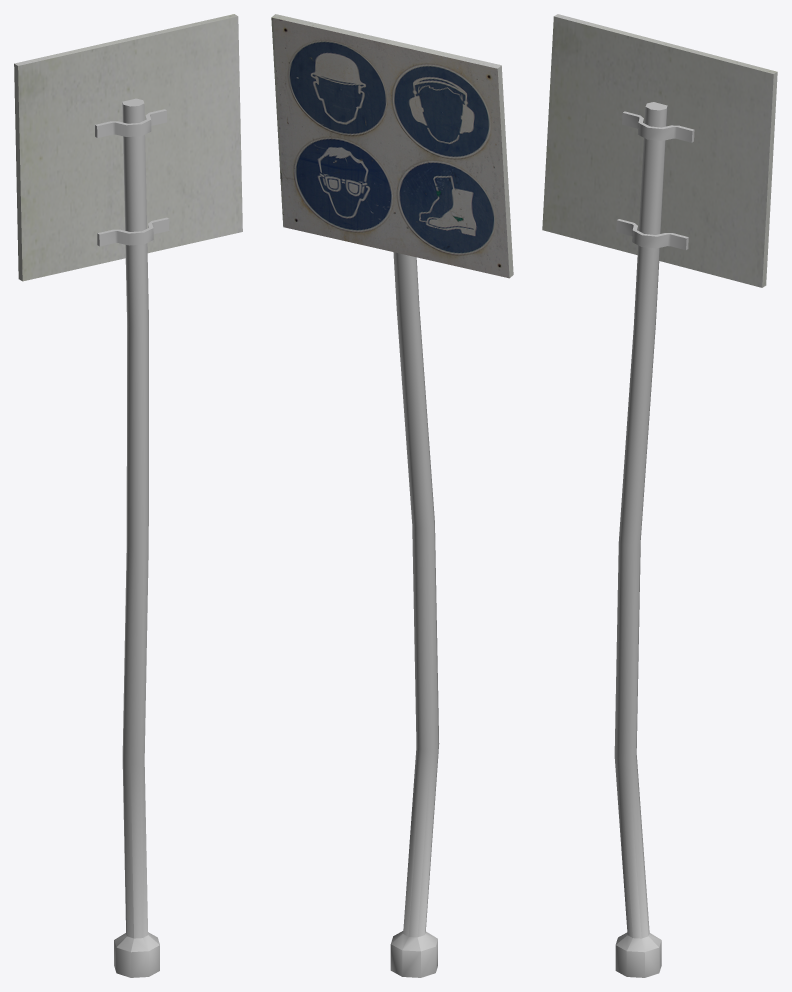
File: sign01_LOD0.fbx
3 views of the same model, side by side, from view 1: azimuth 30°, elevation 25°; view 2: azimuth 150°, elevation 25°; view 3: azimuth 330°, elevation 25° (orthographic). The views are drawn at different scales.
Visible parts, largest first — view 1: Mesh Object; view 2: Mesh Object; view 3: Mesh Object.
Boxes of the visible parts, box(x1,y1,x2,y2) form: Mesh Object: box(14, 14, 242, 977); Mesh Object: box(271, 14, 513, 977); Mesh Object: box(542, 14, 777, 977).
Bounding box in the file's own units: 0.5447 × 2.13 × 0.1389.
